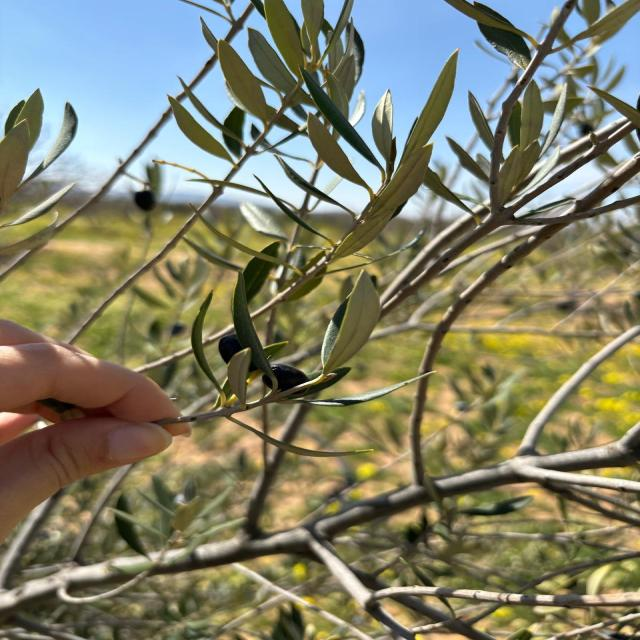Healthy: (323, 272, 381, 374)
